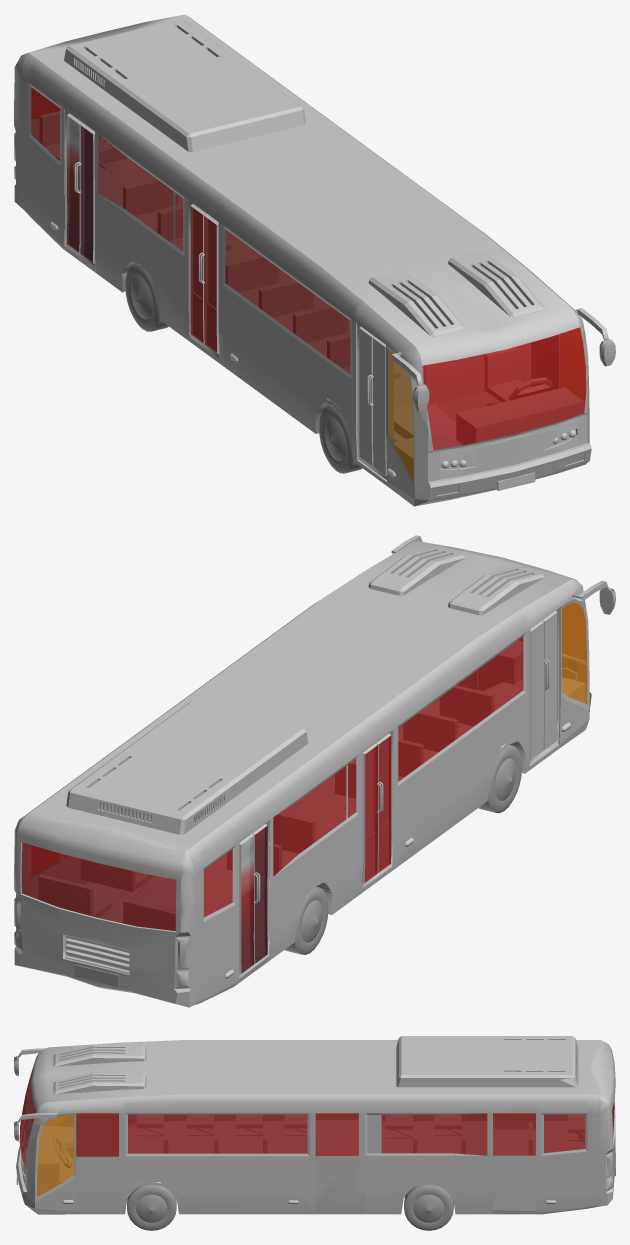
The model's file is Bus_04.fbx.
3 views of the same model, one above another, from view 1: azimuth 30°, elevation 25°; view 2: azimuth 150°, elevation 25°; view 3: azimuth 270°, elevation 25° (orthographic). The views are drawn at different scales.
Visible parts, largest first — view 1: Bus_4body, Bus_4_Glass, Bus_4_door_R, Bus_4_door_L, RR, FR; view 2: Bus_4body, Bus_4_Glass, Bus_4_door_L, Bus_4_door_R, FR, RR; view 3: Bus_4body, Bus_4_Glass, FL, RL.
Part boxes in pixels (left/top/right/bottom): Bus_4body: left=14, top=14, right=615, bottom=506; Bus_4_Glass: left=31, top=87, right=586, bottom=480; Bus_4_door_R: left=357, top=324, right=374, bottom=469; Bus_4_door_L: left=369, top=336, right=391, bottom=479; RR: left=125, top=263, right=168, bottom=331; FR: left=319, top=405, right=362, bottom=473; Bus_4body: left=14, top=535, right=615, bottom=1007; Bus_4_Glass: left=21, top=603, right=587, bottom=973; Bus_4_door_L: left=542, top=608, right=559, bottom=754; Bus_4_door_R: left=530, top=621, right=547, bottom=764; FR: left=479, top=745, right=521, bottom=813; RR: left=285, top=886, right=328, bottom=954; Bus_4body: left=14, top=1036, right=615, bottom=1214; Bus_4_Glass: left=19, top=1069, right=614, bottom=1196; FL: left=127, top=1184, right=176, bottom=1230; RL: left=404, top=1184, right=453, bottom=1230.
Size of the model in its own units: 273 by 264 by 990.
